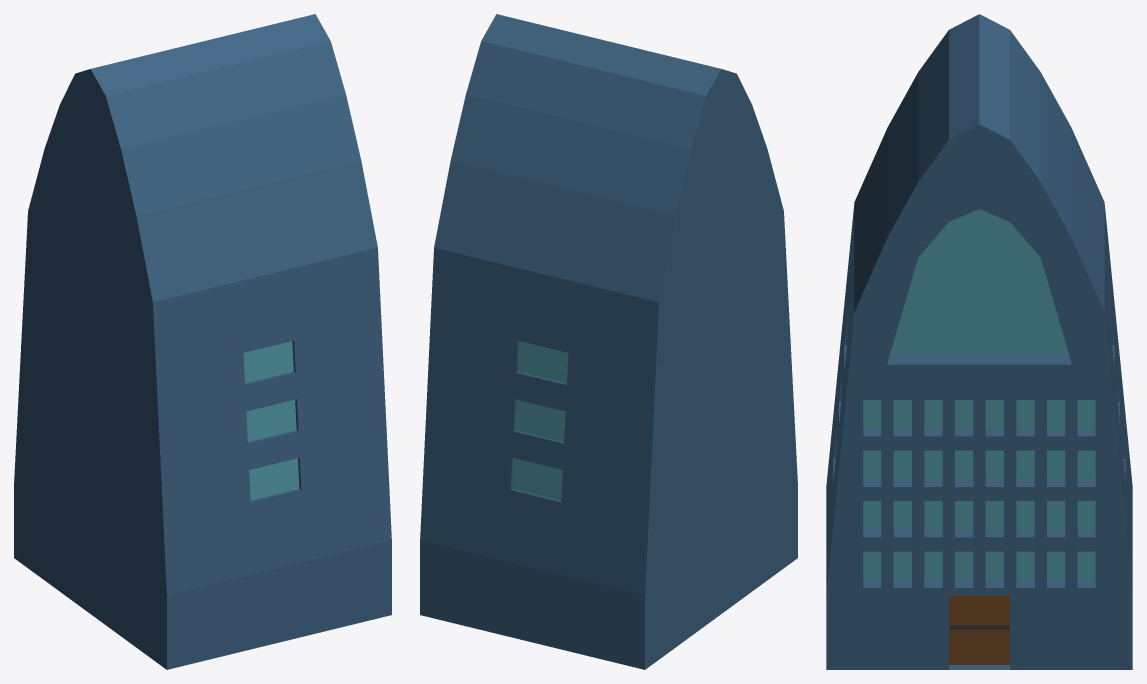
File: Edificiote5.fbx
3 renders of one model, left to right at view 1: azimuth 30°, elevation 25°; view 2: azimuth 150°, elevation 25°; view 3: azimuth 270°, elevation 25°, orthographic.
Parts seen in each view (by area): view 1: Building8; view 2: Building8; view 3: Building8.
Boxes of the visible parts, <box> form: Building8: <box>14,14,391,669</box>; Building8: <box>420,14,797,669</box>; Building8: <box>826,14,1132,669</box>.
Size of the model in its own units: 791 by 1789 by 909.
